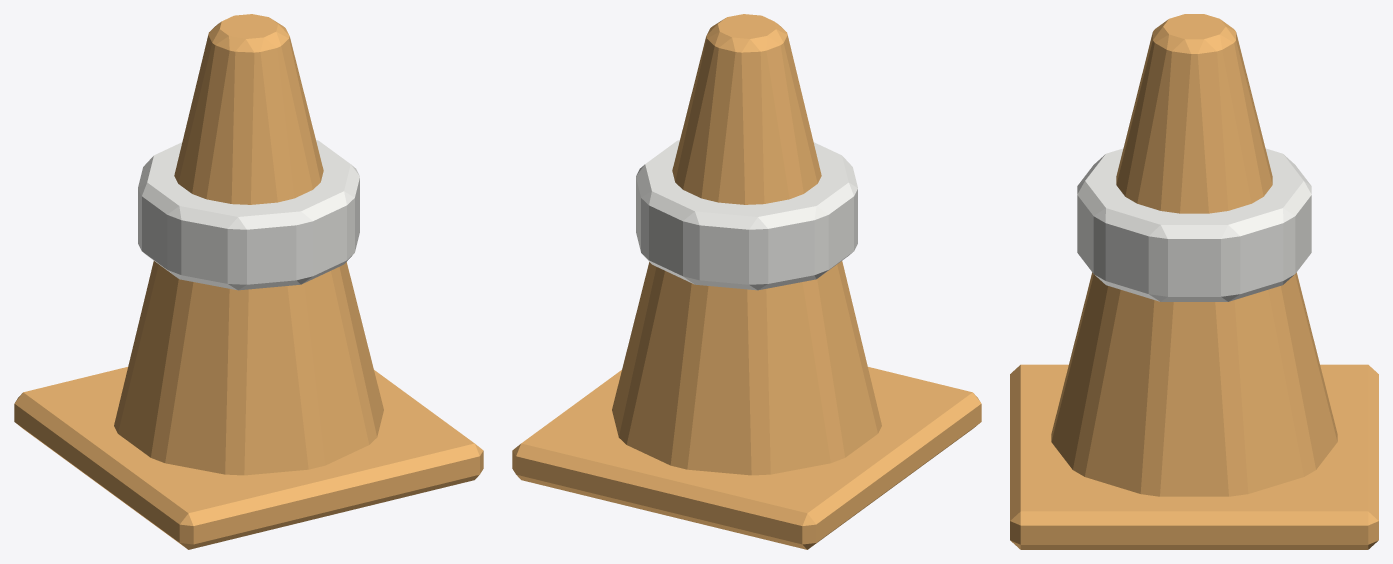
File: 街道_路障锥_01.fbx
The picture shows the model from 3 angles, left to right: view 1: azimuth 30°, elevation 25°; view 2: azimuth 150°, elevation 25°; view 3: azimuth 270°, elevation 25°; orthographic projection. The views are drawn at different scales.
Visible parts, largest first — view 1: 锥体, 底座.002, 反光条.001; view 2: 锥体, 底座.002, 反光条.001; view 3: 锥体, 底座.002, 反光条.001.
Part boxes in pixels (bbox=[...]): 锥体: bbox=[114, 14, 383, 475]; 底座.002: bbox=[14, 367, 483, 549]; 反光条.001: bbox=[138, 140, 359, 290]; 锥体: bbox=[612, 14, 881, 475]; 底座.002: bbox=[512, 367, 981, 549]; 反光条.001: bbox=[636, 140, 857, 290]; 锥体: bbox=[1051, 14, 1337, 496]; 底座.002: bbox=[1010, 364, 1378, 549]; 反光条.001: bbox=[1077, 148, 1311, 301].
Size of the model in its own units: 52 by 70 by 52.
